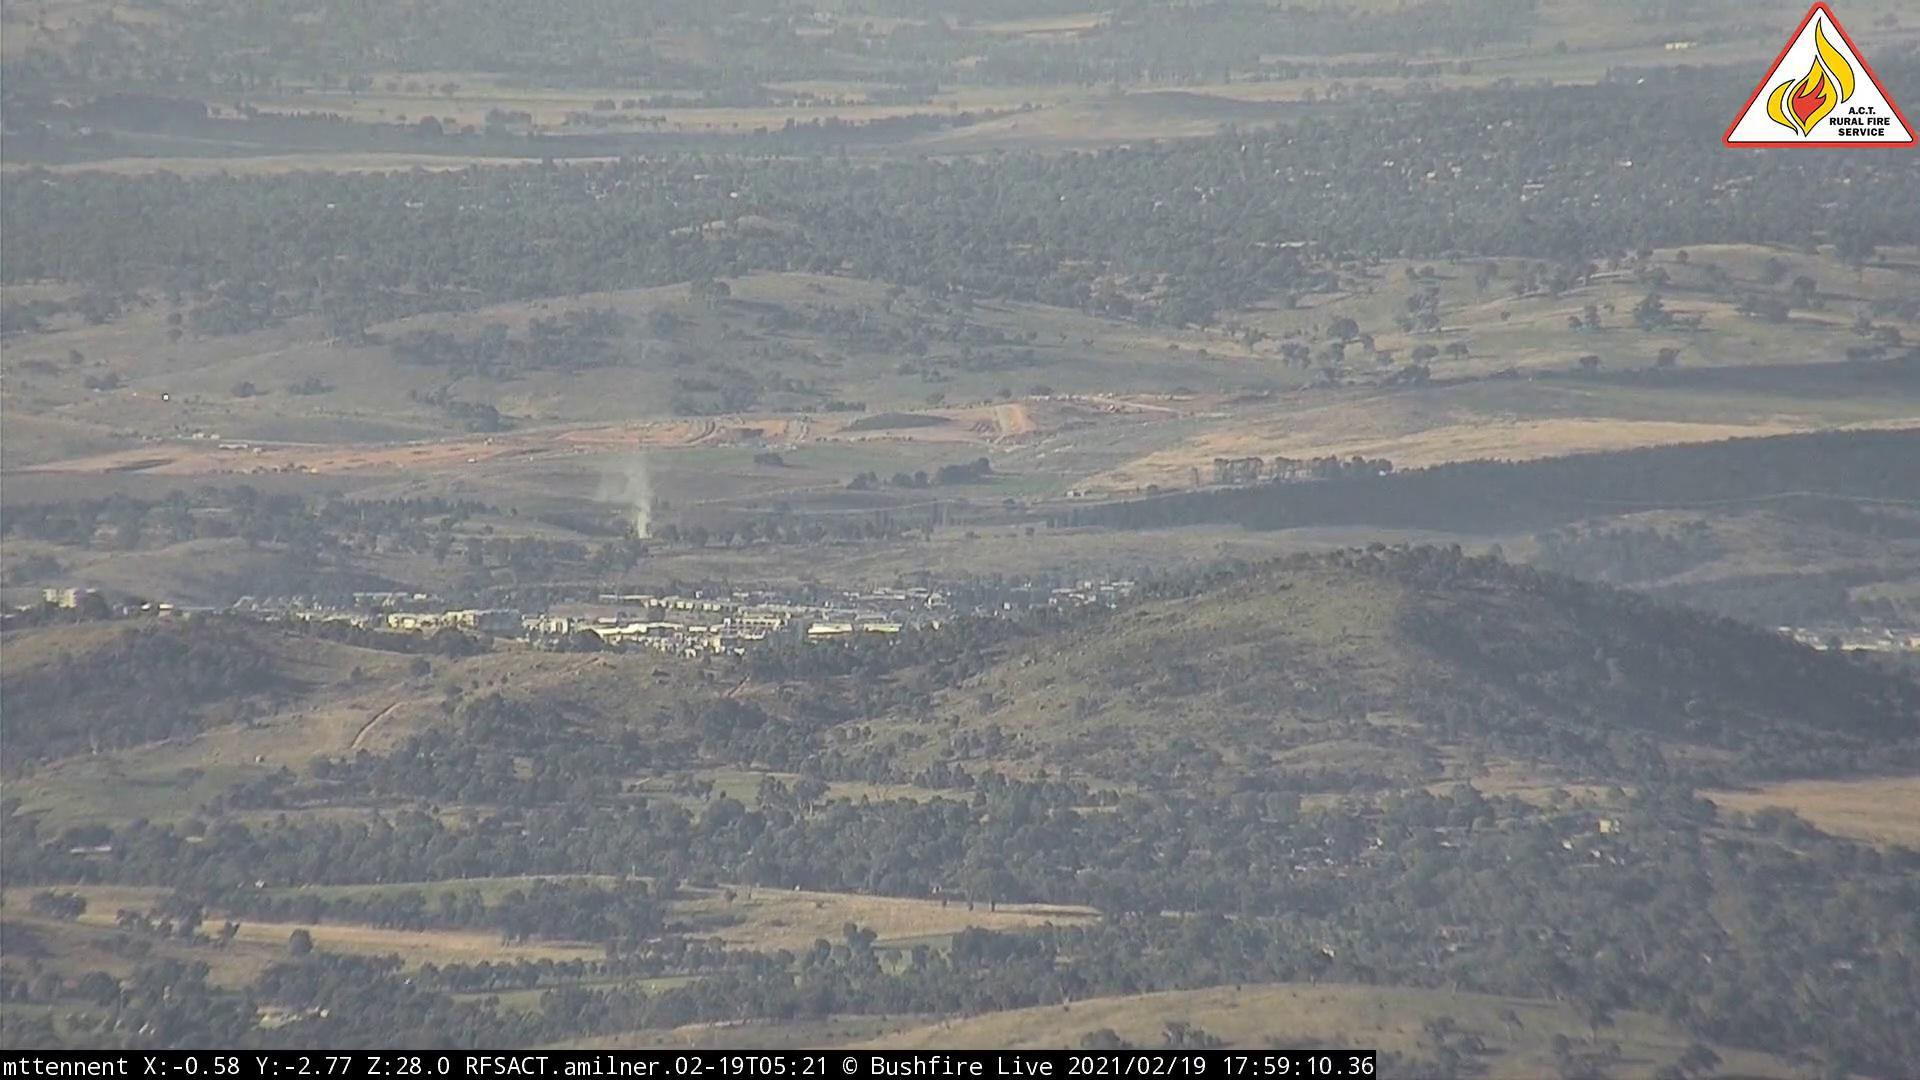Smoke: (616, 458, 670, 547)
